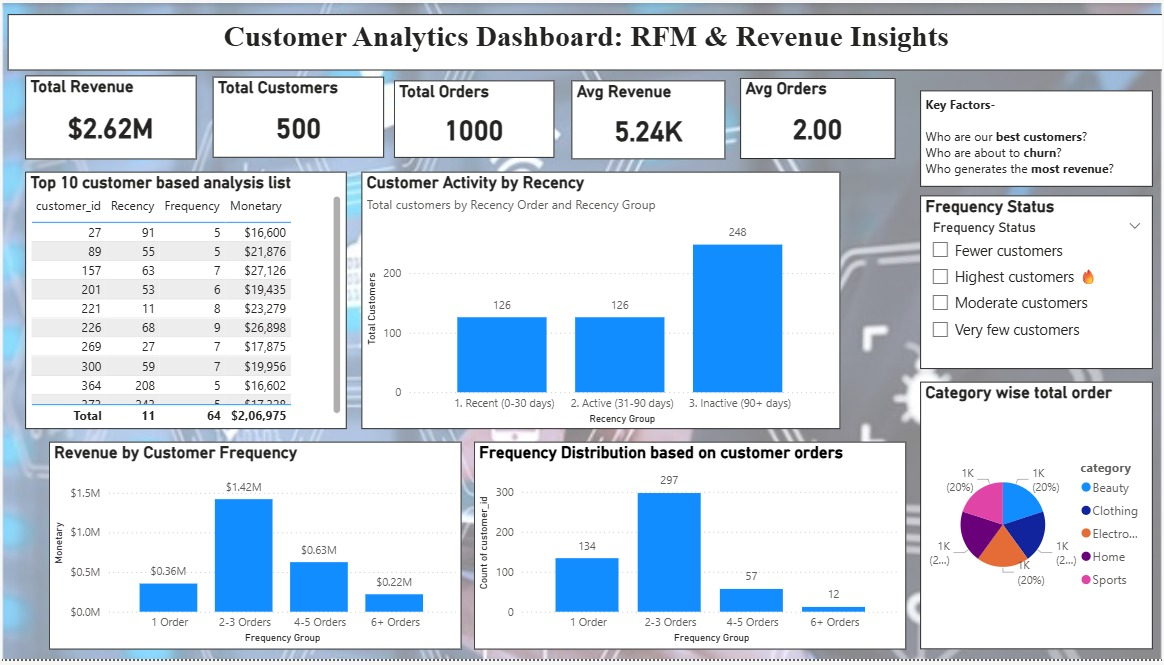

The page's visual inventory and layout, read from the dashboard file:
{"tool":"powerbi","page":{"name":"Customer Analytics Dashboard: RFM & Revenue Insights","canvas":[1280,720],"ordinal":1},"visuals":[{"type":"textbox","box":[9.6,12.3,1270.7,61.7],"z":0},{"type":"textbox","box":[1011.3,96.1,255.2,105.7],"z":1000},{"type":"tableEx","title":"Top 10 customer based analysis list","fields":{"Values":["orders.customer_id","orders.Recency","orders.Frequency","orders.Monetary"]},"box":[28.8,185.2,352.7,282.7],"z":2000},{"type":"clusteredColumnChart","title":"Frequency Distribution based on customer orders","fields":{"Y":["CountNonNull(customers.customer_id)"],"Category":["customers.Frequency Group"]},"box":[521.4,481.6,474.8,227.8],"z":3000},{"type":"clusteredColumnChart","title":"Customer Activity by Recency","fields":{"Y":["customers.Total Customers"],"Category":["customers.Recency Group"]},"box":[397.9,185.2,525.6,282.7],"z":4000},{"type":"slicer","title":"Frequency Status","fields":{"Values":["customers.Frequency Status"]},"box":[1011.3,211.3,255.2,190.7],"z":5000},{"type":"card","title":"Total Customers","fields":{"Values":["customers.Total Customers"]},"box":[234.6,81,188,89.2],"z":6000},{"type":"card","title":"Avg Revenue","fields":{"Values":["customers.Avg Monetary"]},"box":[628.5,85.1,168.8,86.4],"z":7000},{"type":"card","title":"Avg Orders","fields":{"Values":["customers.Avg Frequency"]},"box":[813.7,82.3,170.2,89.2],"z":8000},{"type":"card","title":"Total Orders","fields":{"Values":["orders.Frequency"]},"box":[433.6,85.1,175.6,85.1],"z":9000},{"type":"card","title":"Total Revenue","fields":{"Values":["orders.Monetary"]},"box":[28.8,79.6,188,91.9],"z":10000},{"type":"clusteredColumnChart","title":"Revenue by Customer Frequency","fields":{"Category":["customers.Frequency Group"],"Y":["orders.Monetary"]},"box":[54.9,481.6,452.8,227.8],"z":11000},{"type":"pieChart","title":"Category wise total order","fields":{"Category":["products.category"],"Y":["orders.Total Orders"]},"box":[1011.3,415.8,255.2,293.7],"z":11001}]}

Visuals, with their boxes in screenshot pixels (x1, y1, x2, y2), scaled from the page's 1280x720 canvas onto the 1164x665 screenshot:
textbox: select_region(9, 11, 1163, 68)
textbox: select_region(920, 89, 1152, 186)
"Top 10 customer based analysis list" tableEx: select_region(26, 171, 347, 432)
"Frequency Distribution based on customer orders" clusteredColumnChart: select_region(474, 445, 906, 655)
"Customer Activity by Recency" clusteredColumnChart: select_region(362, 171, 840, 432)
"Frequency Status" slicer: select_region(920, 195, 1152, 371)
"Total Customers" card: select_region(213, 75, 384, 157)
"Avg Revenue" card: select_region(572, 79, 725, 158)
"Avg Orders" card: select_region(740, 76, 895, 158)
"Total Orders" card: select_region(394, 79, 554, 157)
"Total Revenue" card: select_region(26, 74, 197, 158)
"Revenue by Customer Frequency" clusteredColumnChart: select_region(50, 445, 462, 655)
"Category wise total order" pieChart: select_region(920, 384, 1152, 655)
